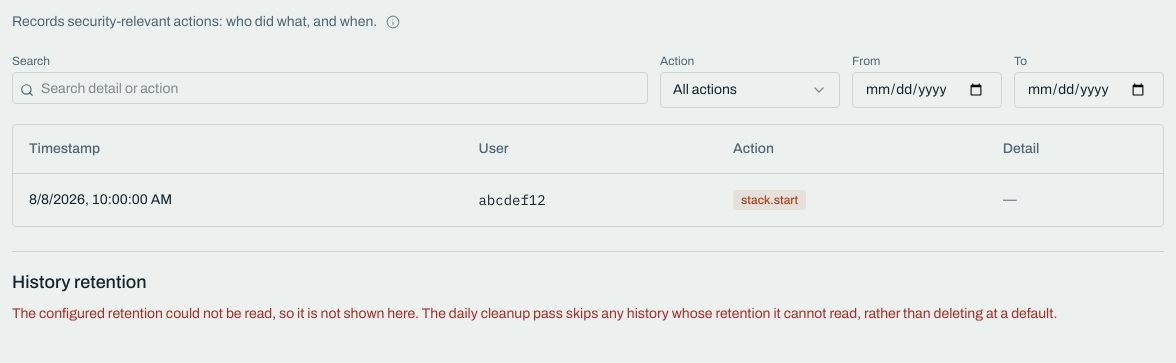
Test case: AuditLogContent — filters › keeps the filter bar and explains the empty result when filters match nothing
In the date field labelled "From": (927, 90) [852,72,1002,108], type "2026-01-01"
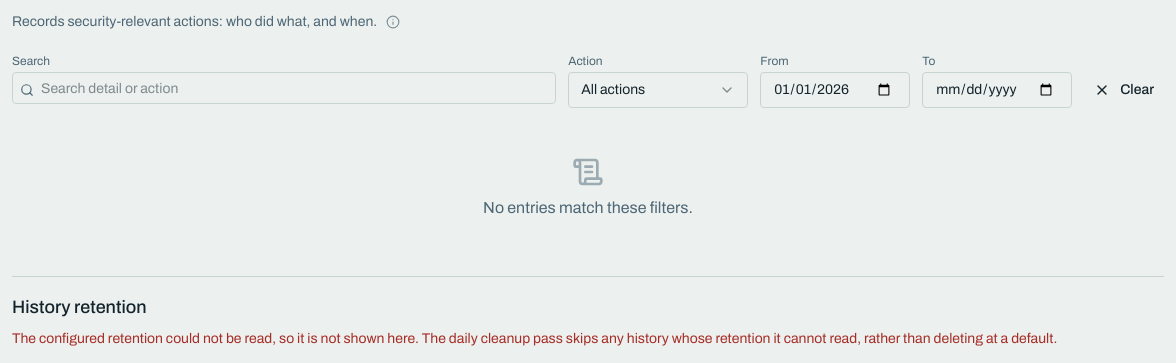
Expected: the text "No entries match these filters." is shown, [483,156,693,216]
Expected: the button "Clear" is shown, [1084,72,1164,108]
